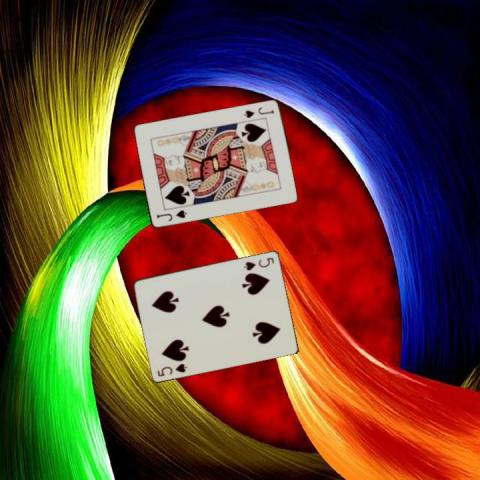5s: (154, 360, 189, 377), (241, 254, 275, 271)
Js: (153, 207, 188, 223), (241, 104, 274, 119)
